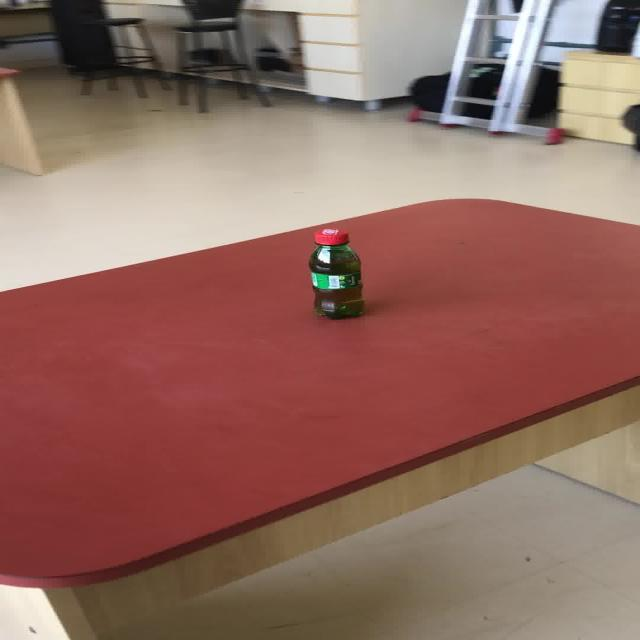guarana: (306, 227, 364, 319)
